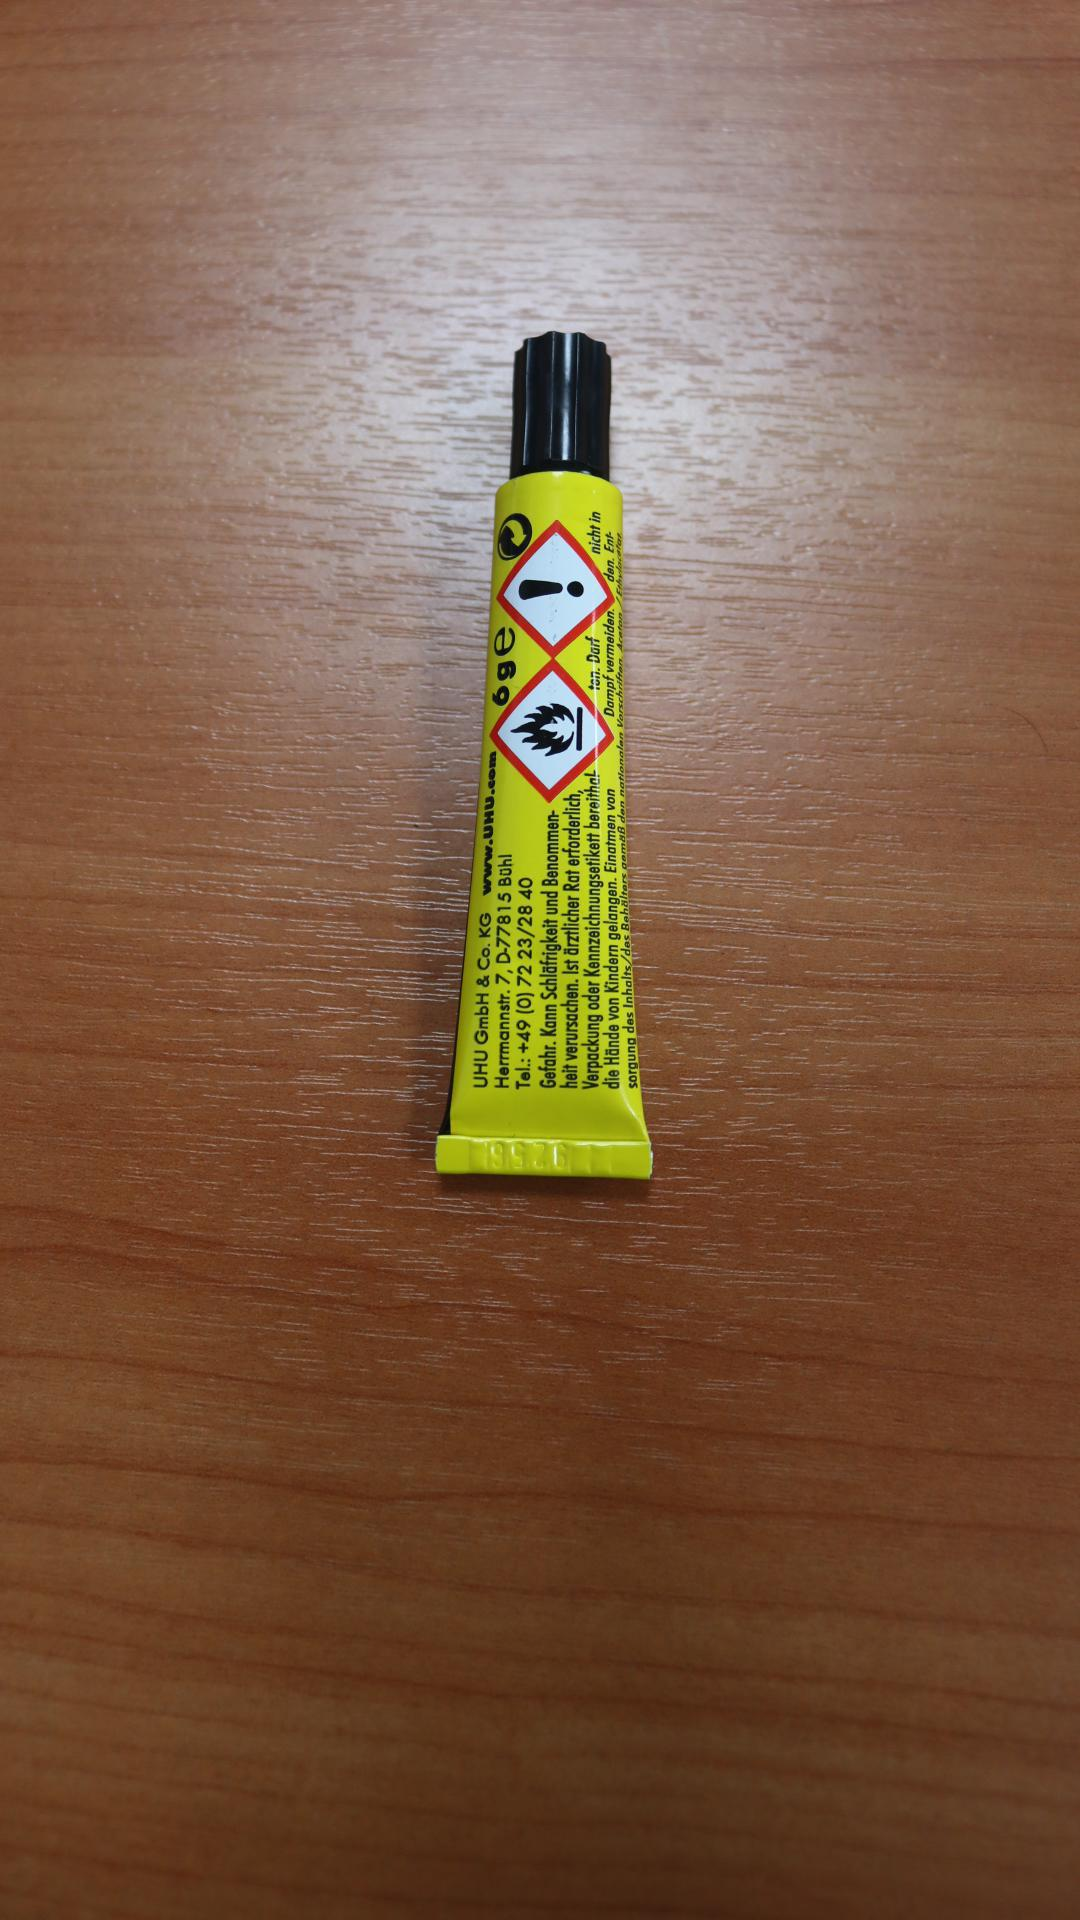Head: (549, 391, 572, 416)
Tail: (527, 1145, 561, 1174)
Tube: (436, 333, 659, 1182)
